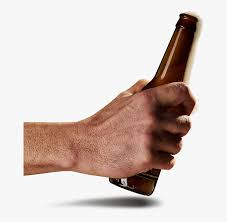beer: (109, 14, 198, 198)
